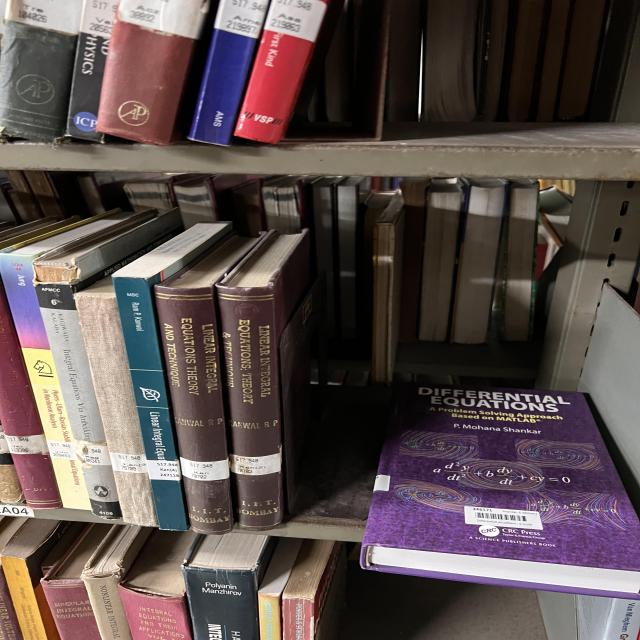Book: (112, 224, 230, 530), (113, 224, 228, 530), (0, 221, 115, 510), (153, 236, 258, 534), (217, 230, 310, 530), (75, 278, 158, 526), (37, 284, 122, 519), (0, 282, 62, 509)
Label: (230, 452, 282, 475), (180, 458, 230, 481), (5, 434, 48, 455), (110, 452, 148, 474), (147, 460, 182, 481), (77, 445, 112, 465), (47, 440, 77, 460)
